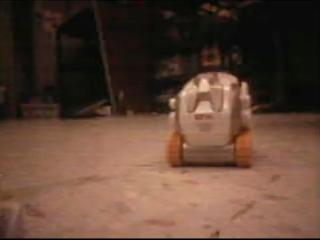cozmo: (165, 70, 254, 168)
